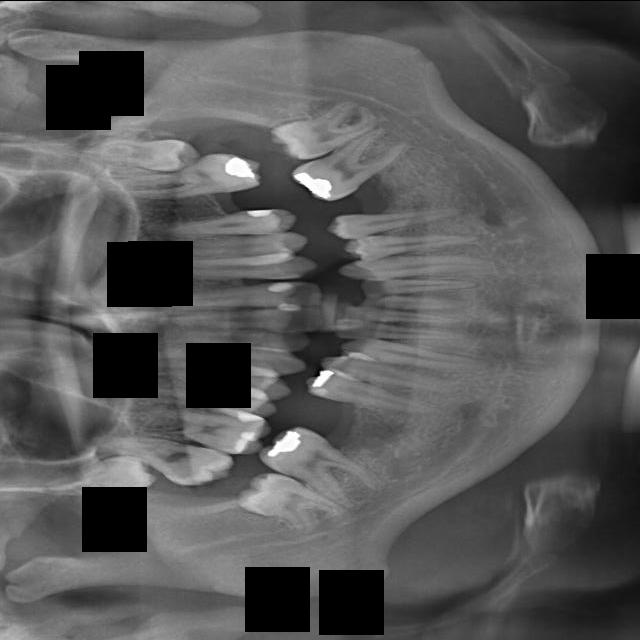3M ESPE Implant: (72, 452, 158, 498)
AMerOss Implant: (138, 253, 320, 279)
Amalgam filling: (160, 230, 308, 261)
Anthogyr Implant: (162, 206, 299, 237)
BioHorizons Implant: (116, 148, 263, 205)
BioLife Implant: (92, 138, 200, 171)
Biomet 3i Implant: (267, 92, 381, 169)
Blue Sky Bio Implant: (286, 118, 418, 214)
Caries: (88, 424, 237, 495)
Composite filling: (328, 205, 464, 239)
Cowellmedi Implant: (345, 232, 484, 258)
Crown: (338, 246, 507, 282)
DENTSPLY Implant: (364, 272, 482, 295)
Dentatus Implant: (363, 292, 470, 313)
Dentis Implant: (344, 303, 467, 332)
Dentium Implant: (334, 318, 470, 343)
Euroteknika Implant: (341, 336, 481, 372)
Filling: (318, 352, 463, 397)
Frontier Implant: (348, 400, 349, 400)
Hiossen Implant: (128, 400, 272, 457)
Implant: (255, 411, 386, 514)
Keystone Dental Implant: (233, 460, 351, 547)
MIS Implant: (151, 380, 278, 421)
Mandible: (141, 365, 292, 400)
Maxilla: (108, 339, 306, 378)
Megagen Implant: (177, 329, 310, 351)
Neodent Implant: (172, 305, 324, 339)
Neoss Implant: (157, 280, 321, 306)
